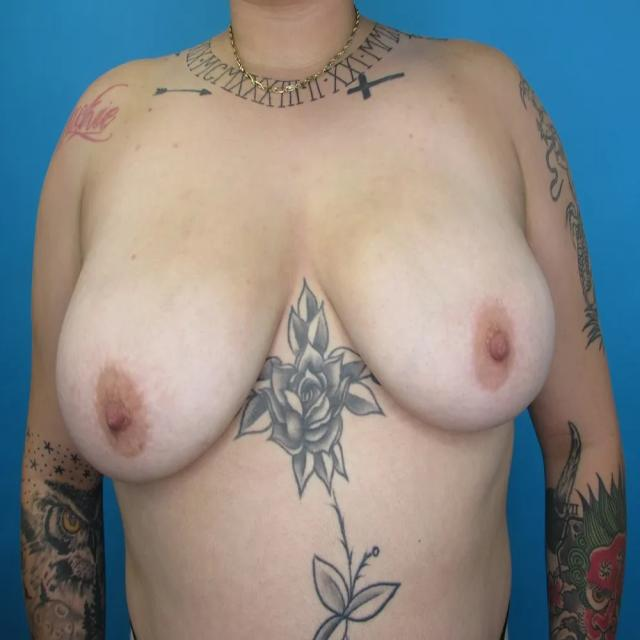Seno ileso: (318, 197, 564, 510), (48, 197, 293, 509)
